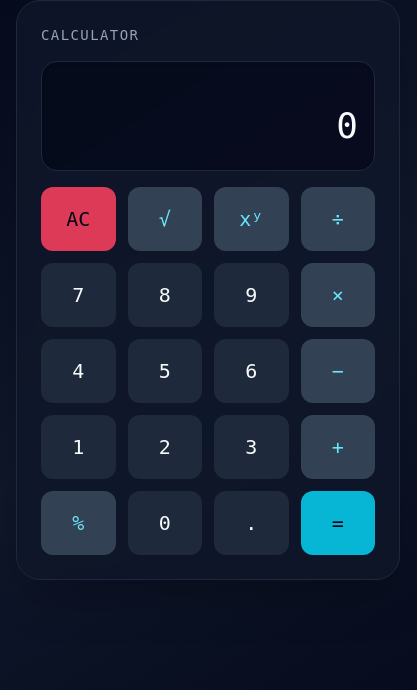
Test case: <Calculator /> › renders a banner with the backend error message and keeps the display terse
Click the button "1" at x=78, y=447, box left=41, top=415, right=116, bottom=479
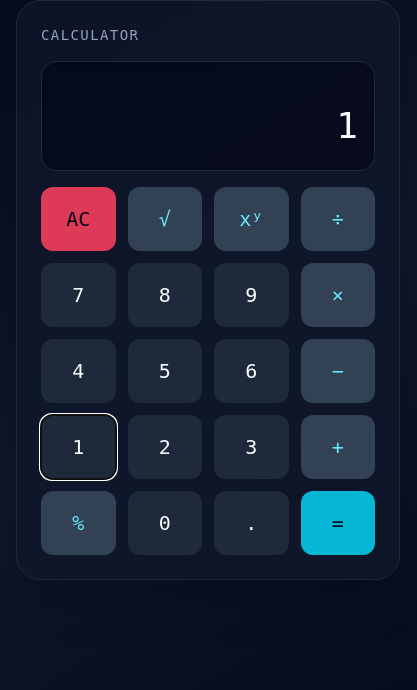
Click the button named "divide" at x=338, y=219, box left=300, top=187, right=375, bottom=251
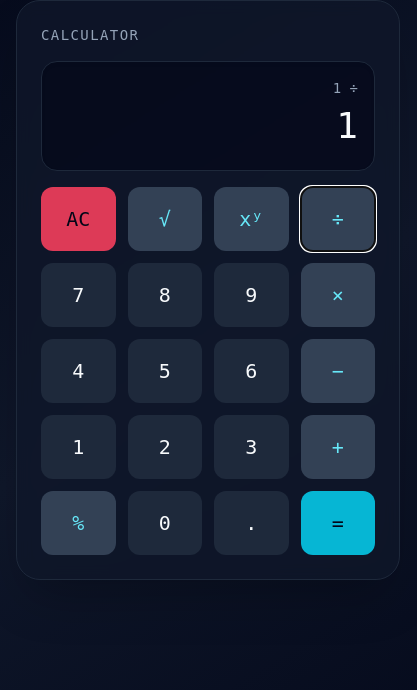
Click the button "0" at x=165, y=523, box left=128, top=491, right=202, bottom=555
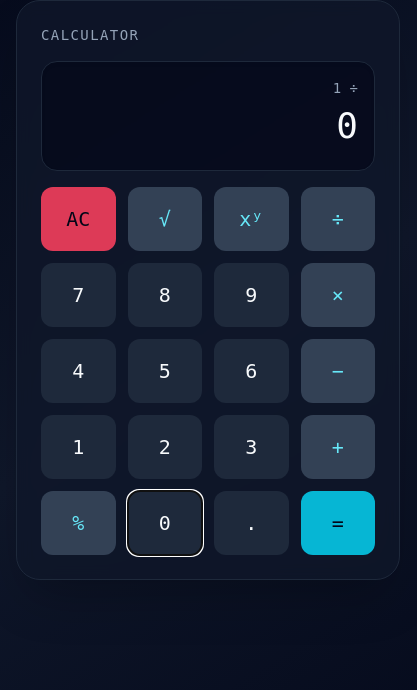
Click the button named "equals" at x=338, y=523, box left=300, top=491, right=375, bottom=555
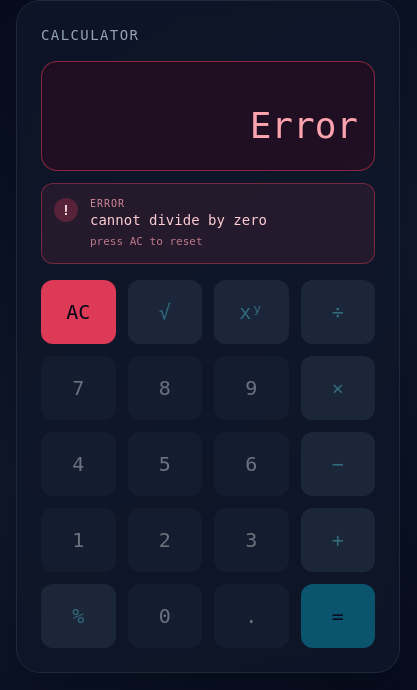
Expected: the text with test id "display" reads "Error", left=250, top=105, right=358, bottom=146
Expected: the message with test id "error-banner" shows "cannot divide by zero", left=90, top=212, right=267, bottom=228
Expected: the message with test id "error-banner" shows "press AC to reset", left=90, top=235, right=203, bottom=248
